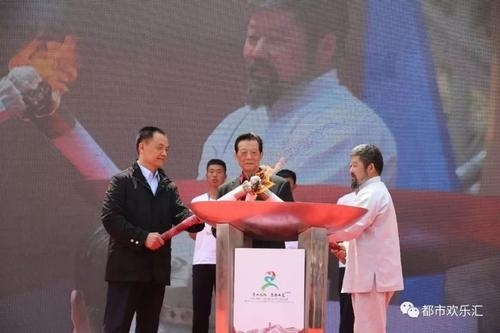fire: (257, 157, 280, 191)
